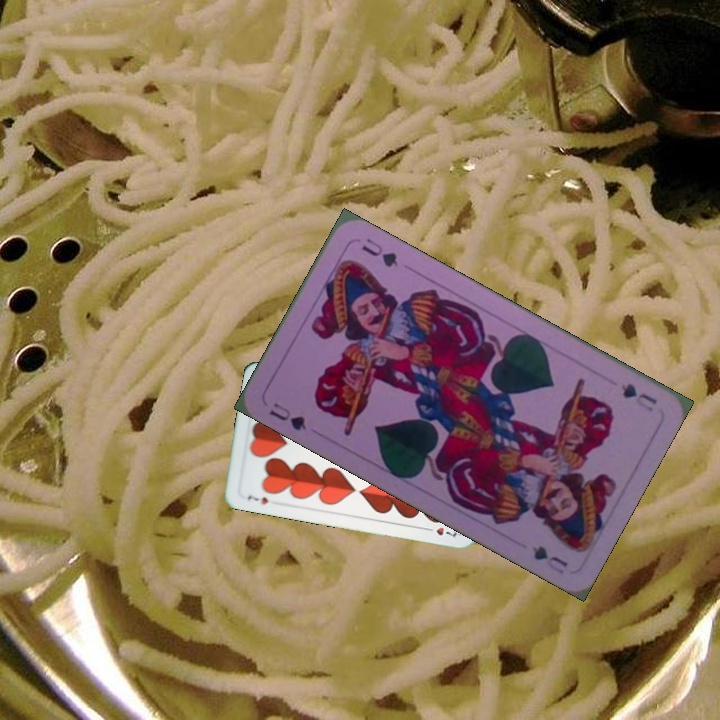GU: (616, 378, 660, 414), (265, 398, 309, 433)
H7: (243, 491, 272, 507)
